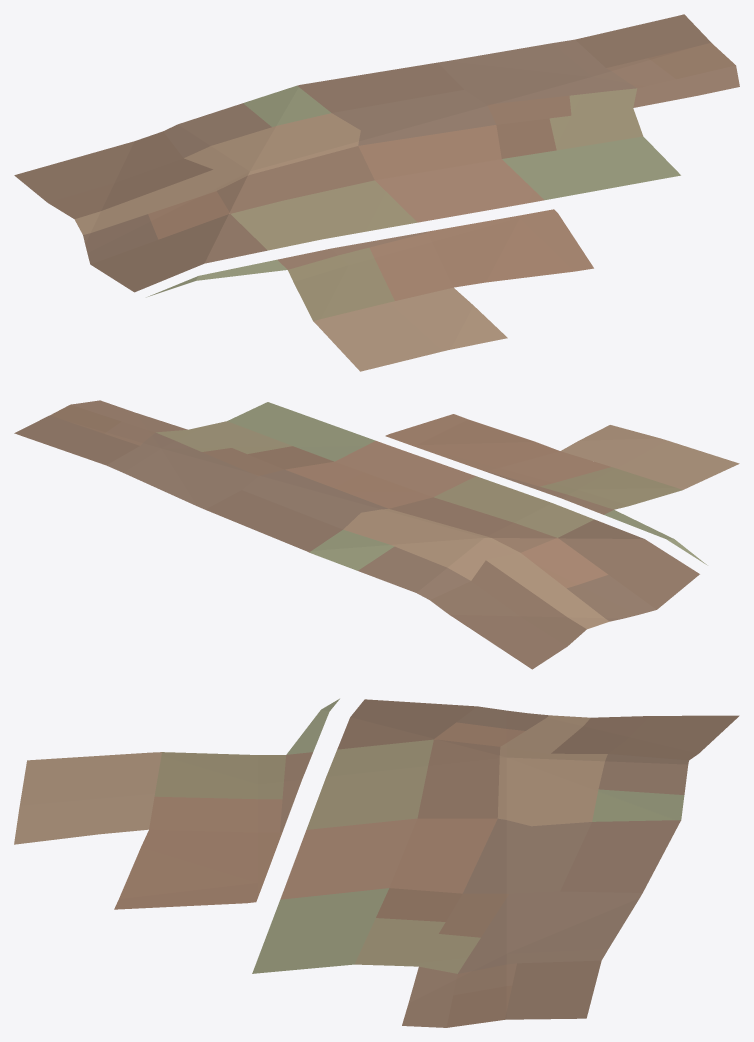
File: farm_-18_-23_soil.glb
The picture shows the model from 3 angles, top to bottom: view 1: azimuth 30°, elevation 25°; view 2: azimuth 150°, elevation 25°; view 3: azimuth 270°, elevation 25°; orthographic projection. The views are drawn at different scales.
Visible parts, largest first — view 1: geometry_0; view 2: geometry_0; view 3: geometry_0.
Boxes of the visible parts, left/top/right/bottom form: geometry_0: left=14, top=14, right=739, bottom=371; geometry_0: left=14, top=400, right=739, bottom=669; geometry_0: left=14, top=698, right=739, bottom=1027.
Bounding box in the file's own units: 298 × 28.21 × 233.
